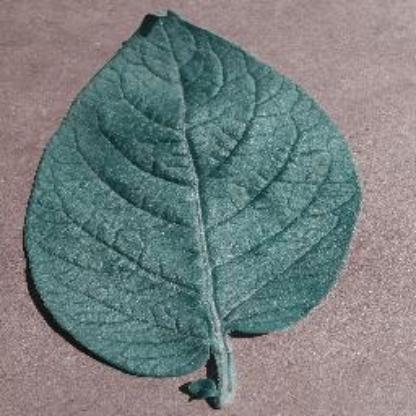Healthy-plant: (21, 11, 387, 408)
